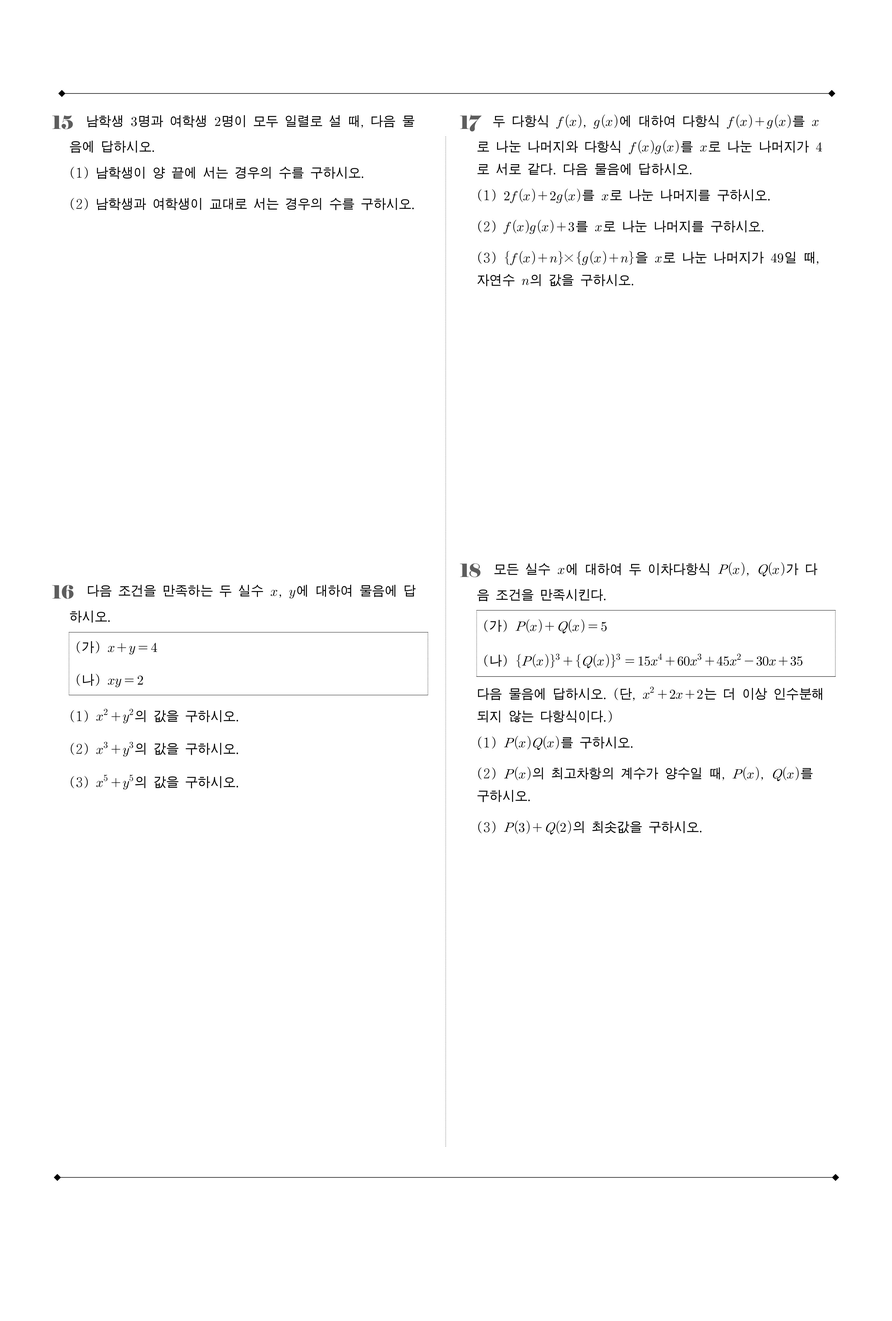problem: (449, 546, 846, 852), (37, 566, 436, 805), (455, 107, 835, 304), (40, 104, 434, 226)
